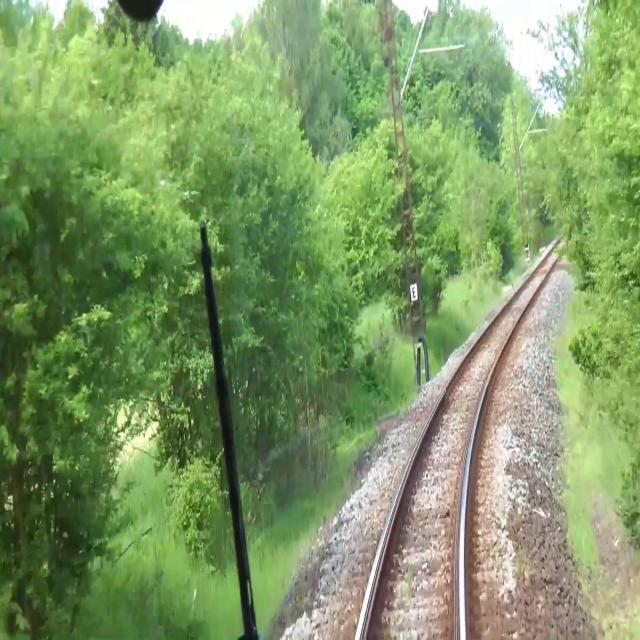rail-track: (364, 235, 568, 639)
